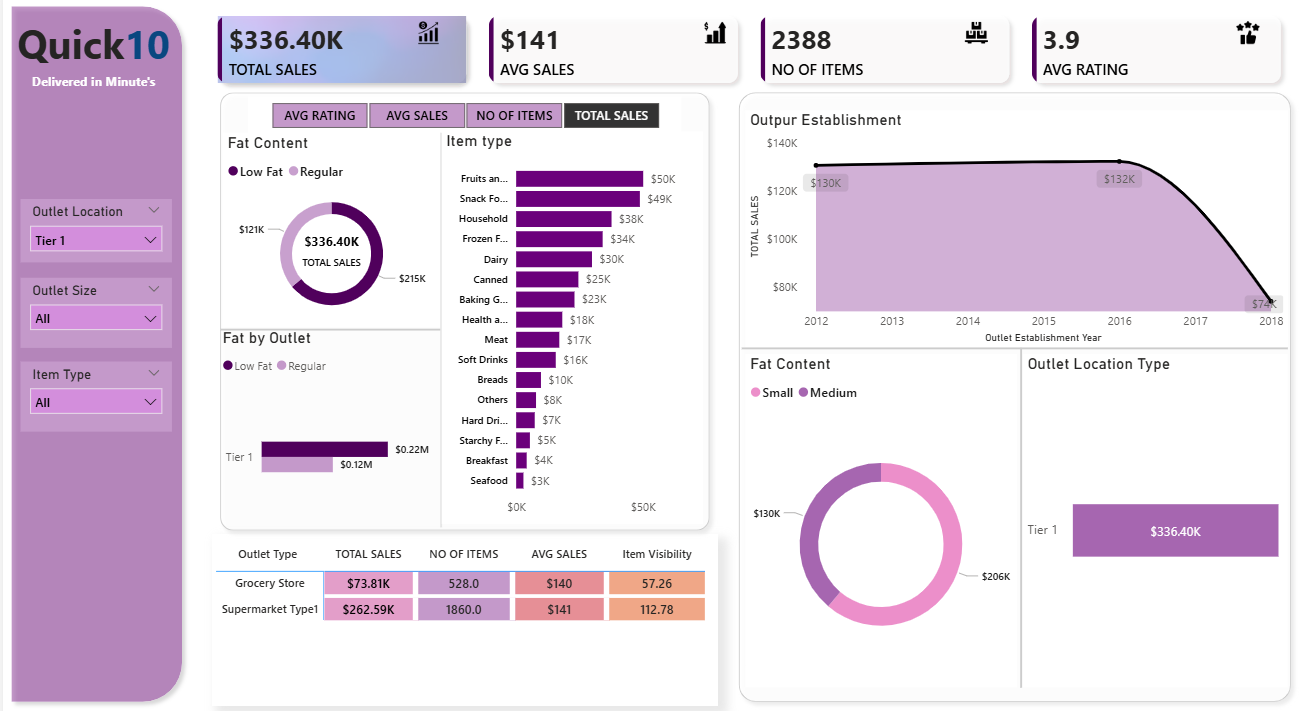

Layout of this report page (visuals, bound fields, positions):
{"tool":"powerbi","page":{"name":"Page 1","canvas":[1400,800],"ordinal":0},"visuals":[{"type":"shape","box":[0,9.4,201.1,764.1],"z":0},{"type":"textbox","box":[0,24.1,194.4,75.1],"z":1000},{"type":"textbox","box":[12.1,84.5,170.2,28.2],"z":2000},{"type":"cardVisual","fields":{"Data":["BlinkIT Grocery Data.TOTAL SALES","BlinkIT Grocery Data.AVERAGE SALES","BlinkIT Grocery Data.NO OF ITEMS","BlinkIT Grocery Data.AVERAGE RATING"]},"box":[201.1,0,1198.4,130],"z":3000},{"type":"shape","box":[223.9,101.9,542.9,487.9],"z":4000},{"type":"donutChart","title":"Fat Content","fields":{"Y":["BlinkIT Grocery Data.TOTAL SALES"],"Category":["BlinkIT Grocery Data.Item Fat Content"]},"box":[235.9,154.2,233.2,209.1],"z":5000},{"type":"slicer","fields":{"Values":["Metrics.Metrics"]},"box":[262.7,115.3,465.1,40.2],"z":6000},{"type":"card","fields":{"Values":["BlinkIT Grocery Data.TOTAL SALES"]},"box":[312.3,256,80.4,46.9],"z":7000},{"type":"clusteredBarChart","title":"Fat by Outlet","fields":{"Y":["BlinkIT Grocery Data.TOTAL SALES"],"Category":["BlinkIT Grocery Data.Outlet Location Type"],"Series":["BlinkIT Grocery Data.Item Fat Content"]},"box":[230.6,363.3,233.2,222.5],"z":8000},{"type":"shape","box":[233.2,353.9,238.6,22.8],"z":9000},{"type":"shape","box":[463.8,154.2,12.1,423.6],"z":10000},{"type":"barChart","title":"Item type","fields":{"Y":["BlinkIT Grocery Data.TOTAL SALES"],"Category":["BlinkIT Grocery Data.Item Type"]},"box":[470.5,152.8,280.2,420.9],"z":11000},{"type":"shape","box":[780.2,101.9,609.9,671.6],"z":12000},{"type":"lineChart","title":"Outpur Establishment","fields":{"Y":["BlinkIT Grocery Data.TOTAL SALES"],"Category":["BlinkIT Grocery Data.Outlet Establishment Year"]},"box":[796.3,130,581.8,254.7],"z":13000},{"type":"donutChart","title":"Fat Content","fields":{"Y":["BlinkIT Grocery Data.TOTAL SALES"],"Category":["BlinkIT Grocery Data.Outlet Size"]},"box":[796.3,391.4,290.9,357.9],"z":14000},{"type":"funnel","title":" Outlet Location Type","fields":{"Y":["BlinkIT Grocery Data.TOTAL SALES"],"Category":["BlinkIT Grocery Data.Outlet Location Type"]},"box":[1093.8,391.4,284.2,357.9],"z":15000},{"type":"pivotTable","fields":{"Rows":["BlinkIT Grocery Data.Outlet Type"],"Values":["BlinkIT Grocery Data.TOTAL SALES","BlinkIT Grocery Data.NO OF ITEMS","BlinkIT Grocery Data.AVG SALES","Sum(BlinkIT Grocery Data.Item Visibility)"]},"box":[223.9,589.8,542.9,183.6],"z":16000},{"type":"shape","box":[1085.8,384.7,12.1,364.6],"z":17000},{"type":"shape","box":[792.2,379.4,585.8,12.1],"z":18000},{"type":"shape","box":[223.9,584.5,542.9,183.6],"z":19000},{"type":"slicer","fields":{"Values":["BlinkIT Grocery Data.Outlet Location Type"]},"box":[18.8,225.2,162.2,68.4],"z":20000},{"type":"slicer","fields":{"Values":["BlinkIT Grocery Data.Outlet Size"]},"box":[18.8,309.7,162.2,75.1],"z":21000},{"type":"slicer","fields":{"Values":["BlinkIT Grocery Data.Item Type"]},"box":[18.8,399.5,162.2,75.1],"z":22000}]}

Visuals, with their boxes on the page's 1400x800 design canvas (x1, y1, x2, y2). These are canvas units, not pixel positions in the 1299x711 screenshot, which may show the page scaled, cropped or inside an application window:
shape: 0/9/201/774
textbox: 0/24/194/99
textbox: 12/84/182/113
cardVisual - BlinkIT Grocery Data.TOTAL SALES x BlinkIT Grocery Data.AVERAGE SALES: 201/0/1400/130
shape: 224/102/767/590
"Fat Content" donutChart: 236/154/469/363
slicer - Metrics.Metrics: 263/115/728/156
card - BlinkIT Grocery Data.TOTAL SALES: 312/256/393/303
"Fat by Outlet" clusteredBarChart: 231/363/464/586
shape: 233/354/472/377
shape: 464/154/476/578
"Item type" barChart: 470/153/751/574
shape: 780/102/1390/774
"Outpur Establishment" lineChart: 796/130/1378/385
"Fat Content" donutChart: 796/391/1087/749
" Outlet Location Type" funnel: 1094/391/1378/749
pivotTable - BlinkIT Grocery Data.Outlet Type x BlinkIT Grocery Data.TOTAL SALES: 224/590/767/773
shape: 1086/385/1098/749
shape: 792/379/1378/392
shape: 224/584/767/768
slicer - BlinkIT Grocery Data.Outlet Location Type: 19/225/181/294
slicer - BlinkIT Grocery Data.Outlet Size: 19/310/181/385
slicer - BlinkIT Grocery Data.Item Type: 19/400/181/475
